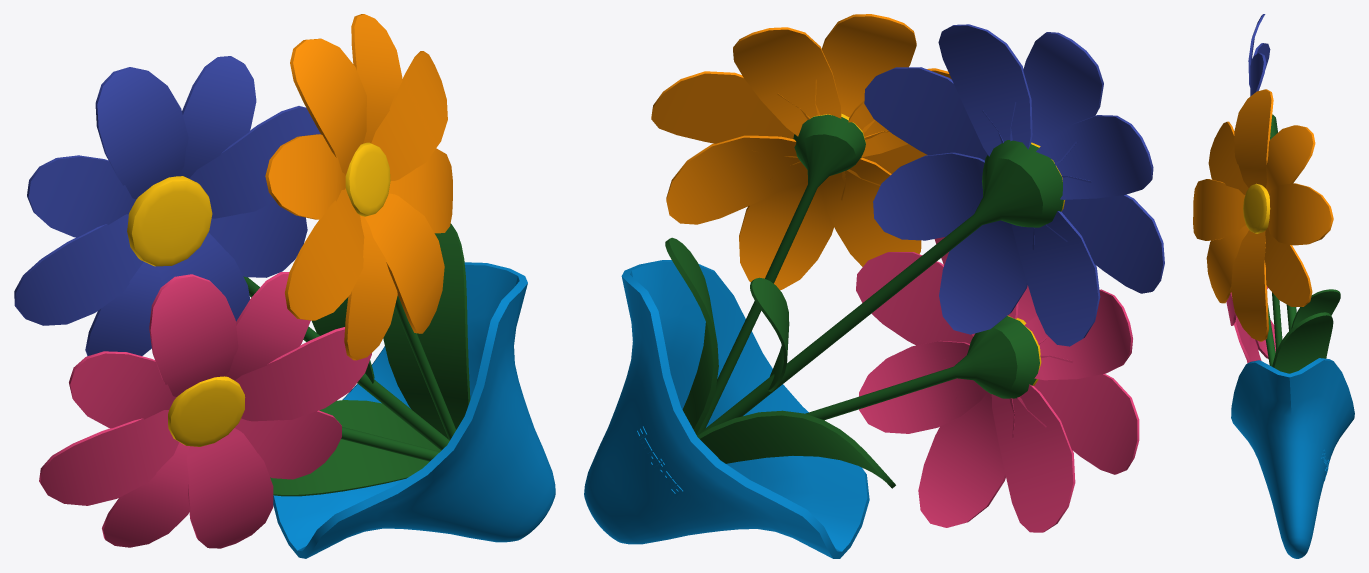
File: bouquet.glb
The picture shows the model from 3 angles, left to right: view 1: azimuth 30°, elevation 25°; view 2: azimuth 150°, elevation 25°; view 3: azimuth 270°, elevation 25°; orthographic projection. The views are drawn at different scales.
Visible parts, largest first — view 1: Sphere.388; view 2: Sphere.388; view 3: Sphere.388.
Boxes of the visible parts, x1,y1,x2,y2 form: Sphere.388: (14,14,555,558); Sphere.388: (584,14,1164,558); Sphere.388: (1193,14,1354,558).
Bounding box in the file's own units: 2.24 × 2.26 × 0.821.
1 material, 1 textured.
